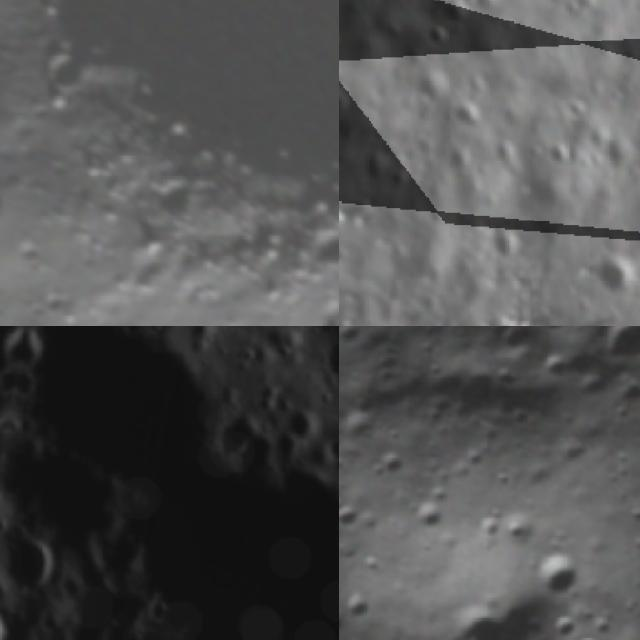crater: (431, 569, 577, 640), (0, 523, 64, 597), (528, 542, 596, 610), (31, 43, 98, 111), (133, 164, 199, 230), (589, 326, 640, 388), (293, 220, 339, 288), (404, 487, 459, 542), (579, 259, 637, 302), (0, 162, 26, 254), (485, 326, 538, 365), (339, 482, 373, 540), (344, 590, 388, 634), (483, 223, 522, 269), (412, 71, 450, 104), (319, 339, 339, 399), (530, 326, 579, 349), (450, 100, 483, 134), (422, 24, 457, 55), (547, 142, 575, 170), (0, 612, 25, 640), (339, 606, 356, 640)
